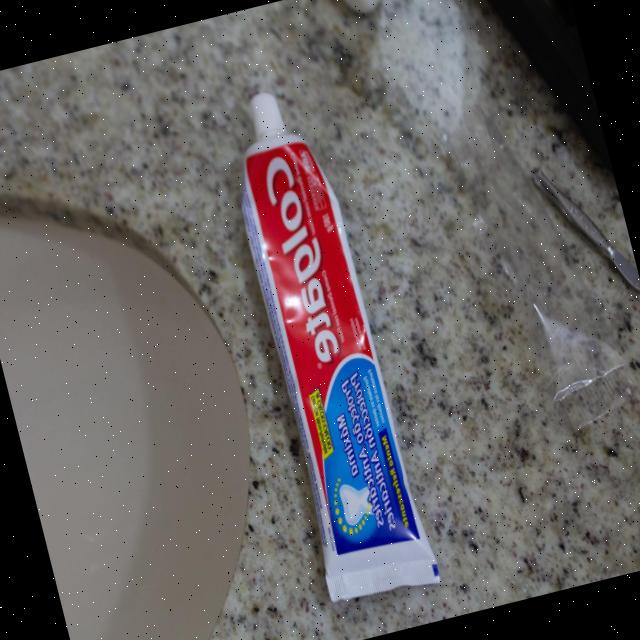Toothpaste: (190, 68, 444, 617)
